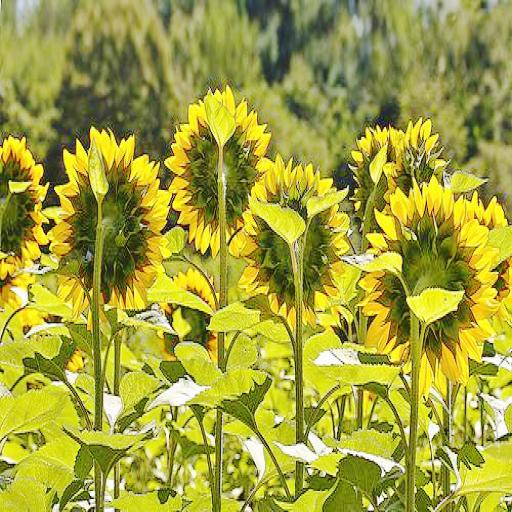sunflower: (360, 182, 498, 393), (49, 127, 170, 304), (244, 161, 347, 322), (168, 87, 265, 251)
